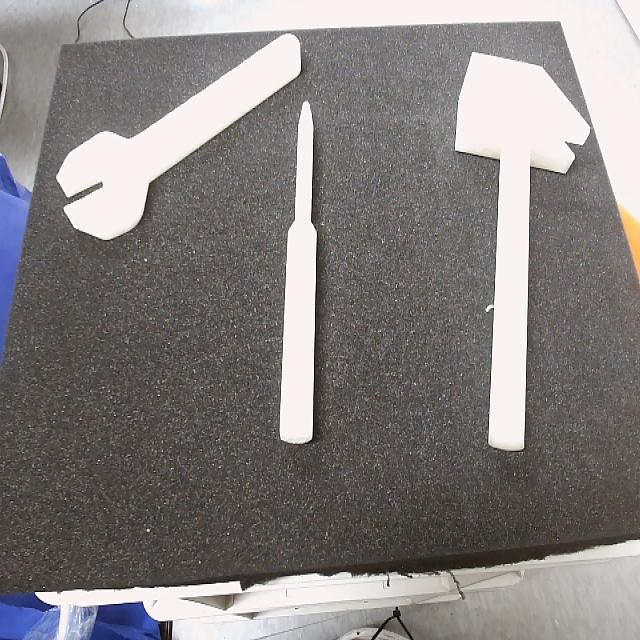Driver: (278, 101, 321, 447)
Hammer: (455, 53, 590, 453)
Spanner: (56, 35, 302, 241)
